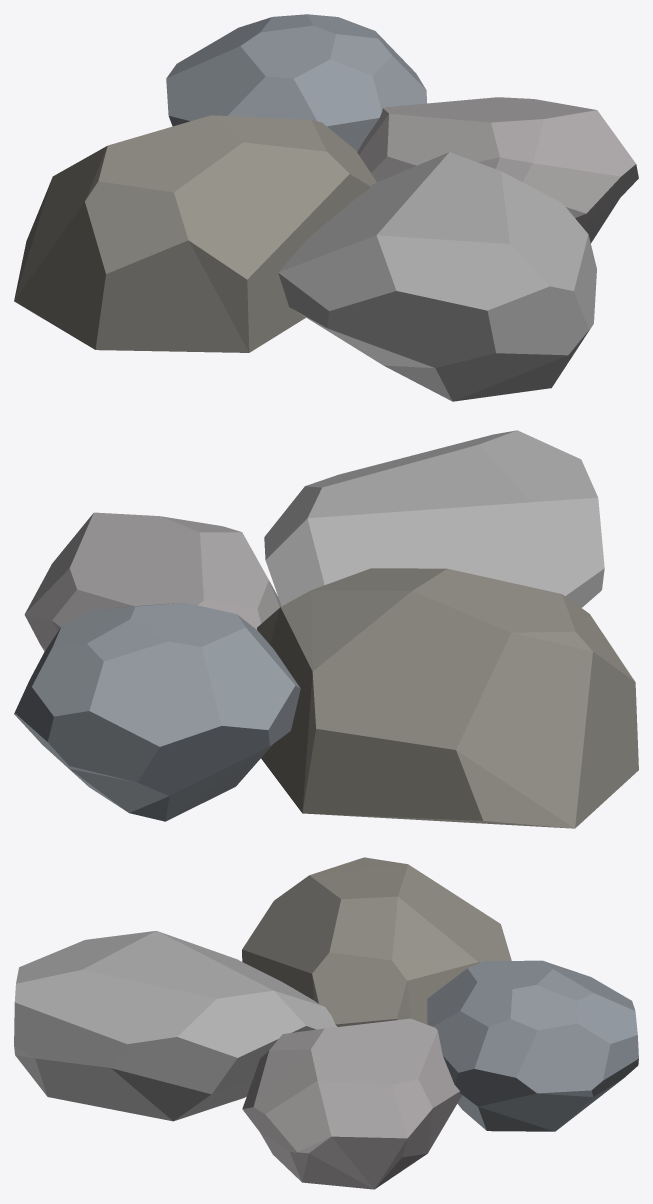
Rendered from Rocks_Round_m_04.fbx.
3 renders of one model, top to bottom at view 1: azimuth 30°, elevation 25°; view 2: azimuth 150°, elevation 25°; view 3: azimuth 270°, elevation 25°, orthographic. The views are drawn at different scales.
Parts seen in each view (by area): view 1: Rocks_Round_m_04; view 2: Rocks_Round_m_04; view 3: Rocks_Round_m_04.
Boxes of the visible parts, x1,y1,x2,y2 form: Rocks_Round_m_04: (14,14,638,401); Rocks_Round_m_04: (14,430,638,828); Rocks_Round_m_04: (14,857,638,1189).
Bounding box in the file's own units: 2.22 × 0.7123 × 2.51.
